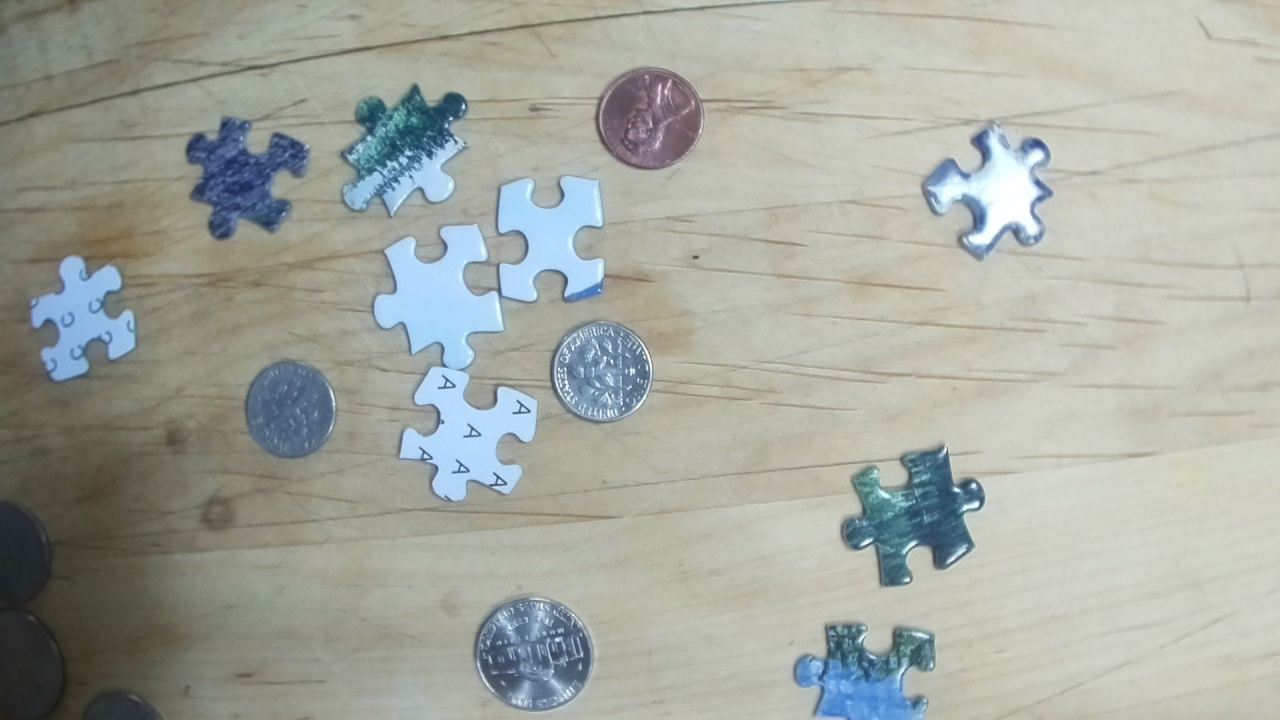dime: (548, 318, 654, 423), (243, 358, 339, 461)
nickel: (471, 594, 594, 713)
penny: (595, 65, 705, 172)
